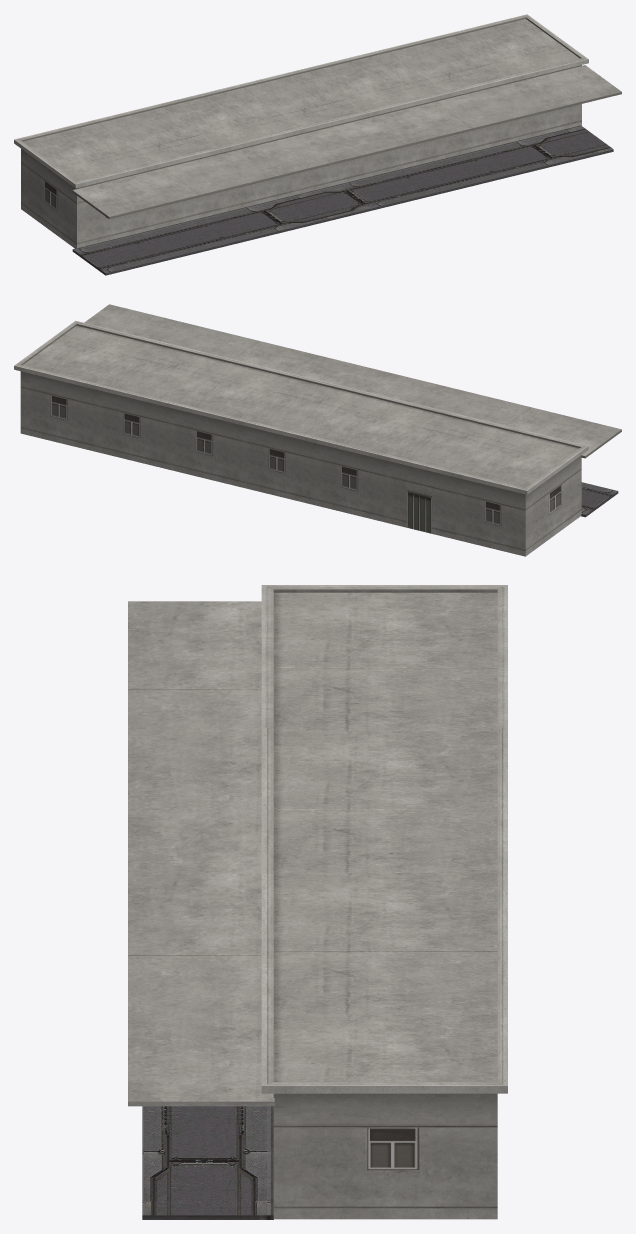
File: 提升泵房.obj
The picture shows the model from 3 angles, top to bottom: view 1: azimuth 30°, elevation 25°; view 2: azimuth 150°, elevation 25°; view 3: azimuth 270°, elevation 25°; orthographic projection. The views are drawn at different scales.
Visible parts, largest first — view 1: Object142; view 2: Object142; view 3: Object142.
Boxes of the visible parts, left/top/right/bottom form: Object142: left=14, top=14, right=621, bottom=275; Object142: left=14, top=304, right=621, bottom=556; Object142: left=128, top=585, right=507, bottom=1219.
Bounding box in the file's own units: 110 × 14.24 × 35.38.
